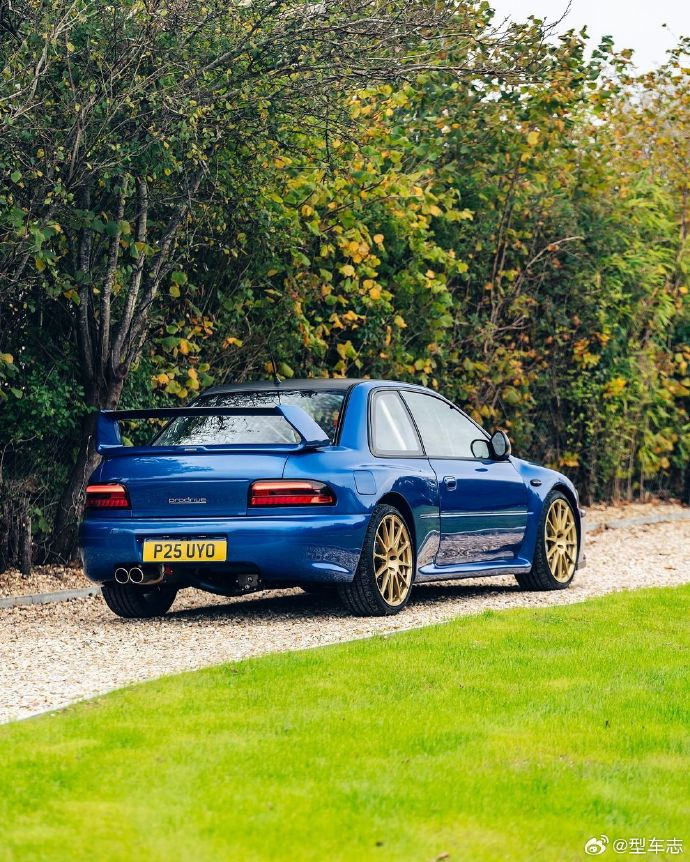other: (72, 379, 592, 609)
